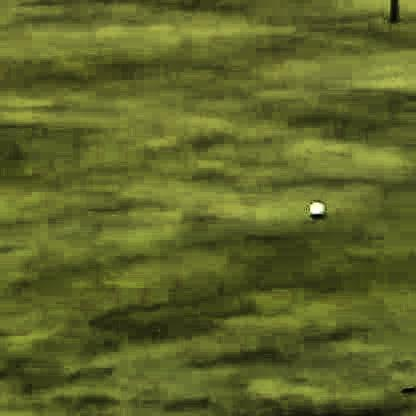golfball: (307, 200, 320, 213)
